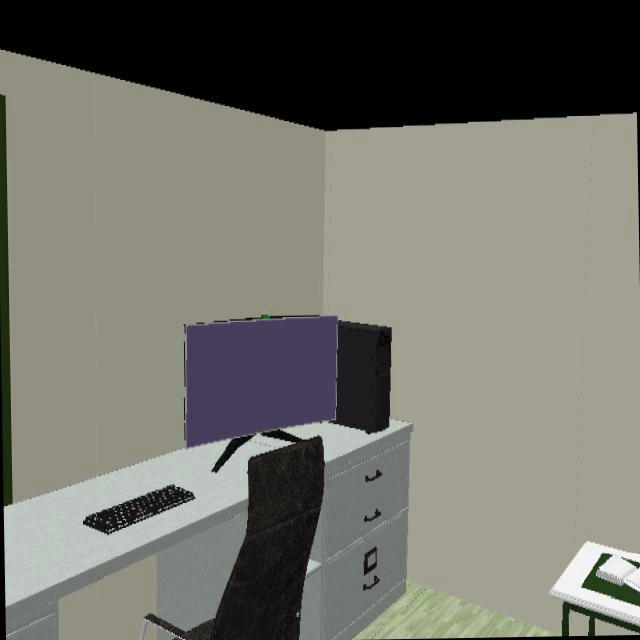book: (582, 553, 640, 595)
chair: (145, 436, 324, 640)
monitor: (184, 316, 338, 447)
table: (3, 420, 410, 640), (548, 541, 640, 636)
